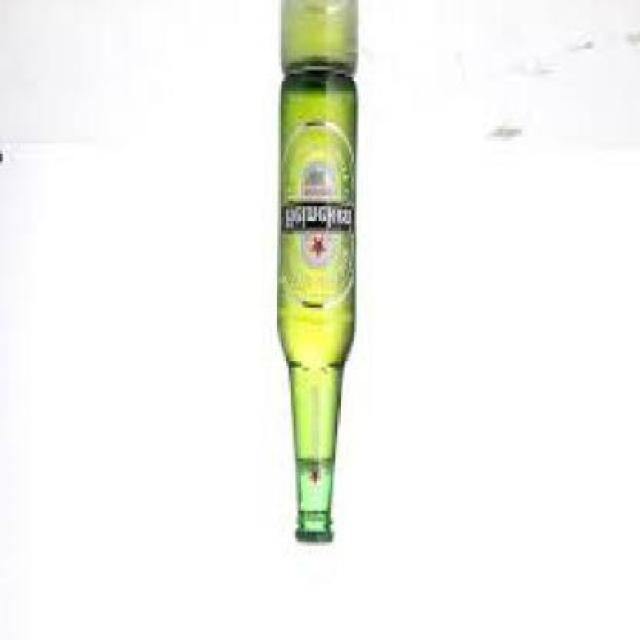GLASS: (275, 70, 356, 542)
METAL: (294, 534, 328, 546)
